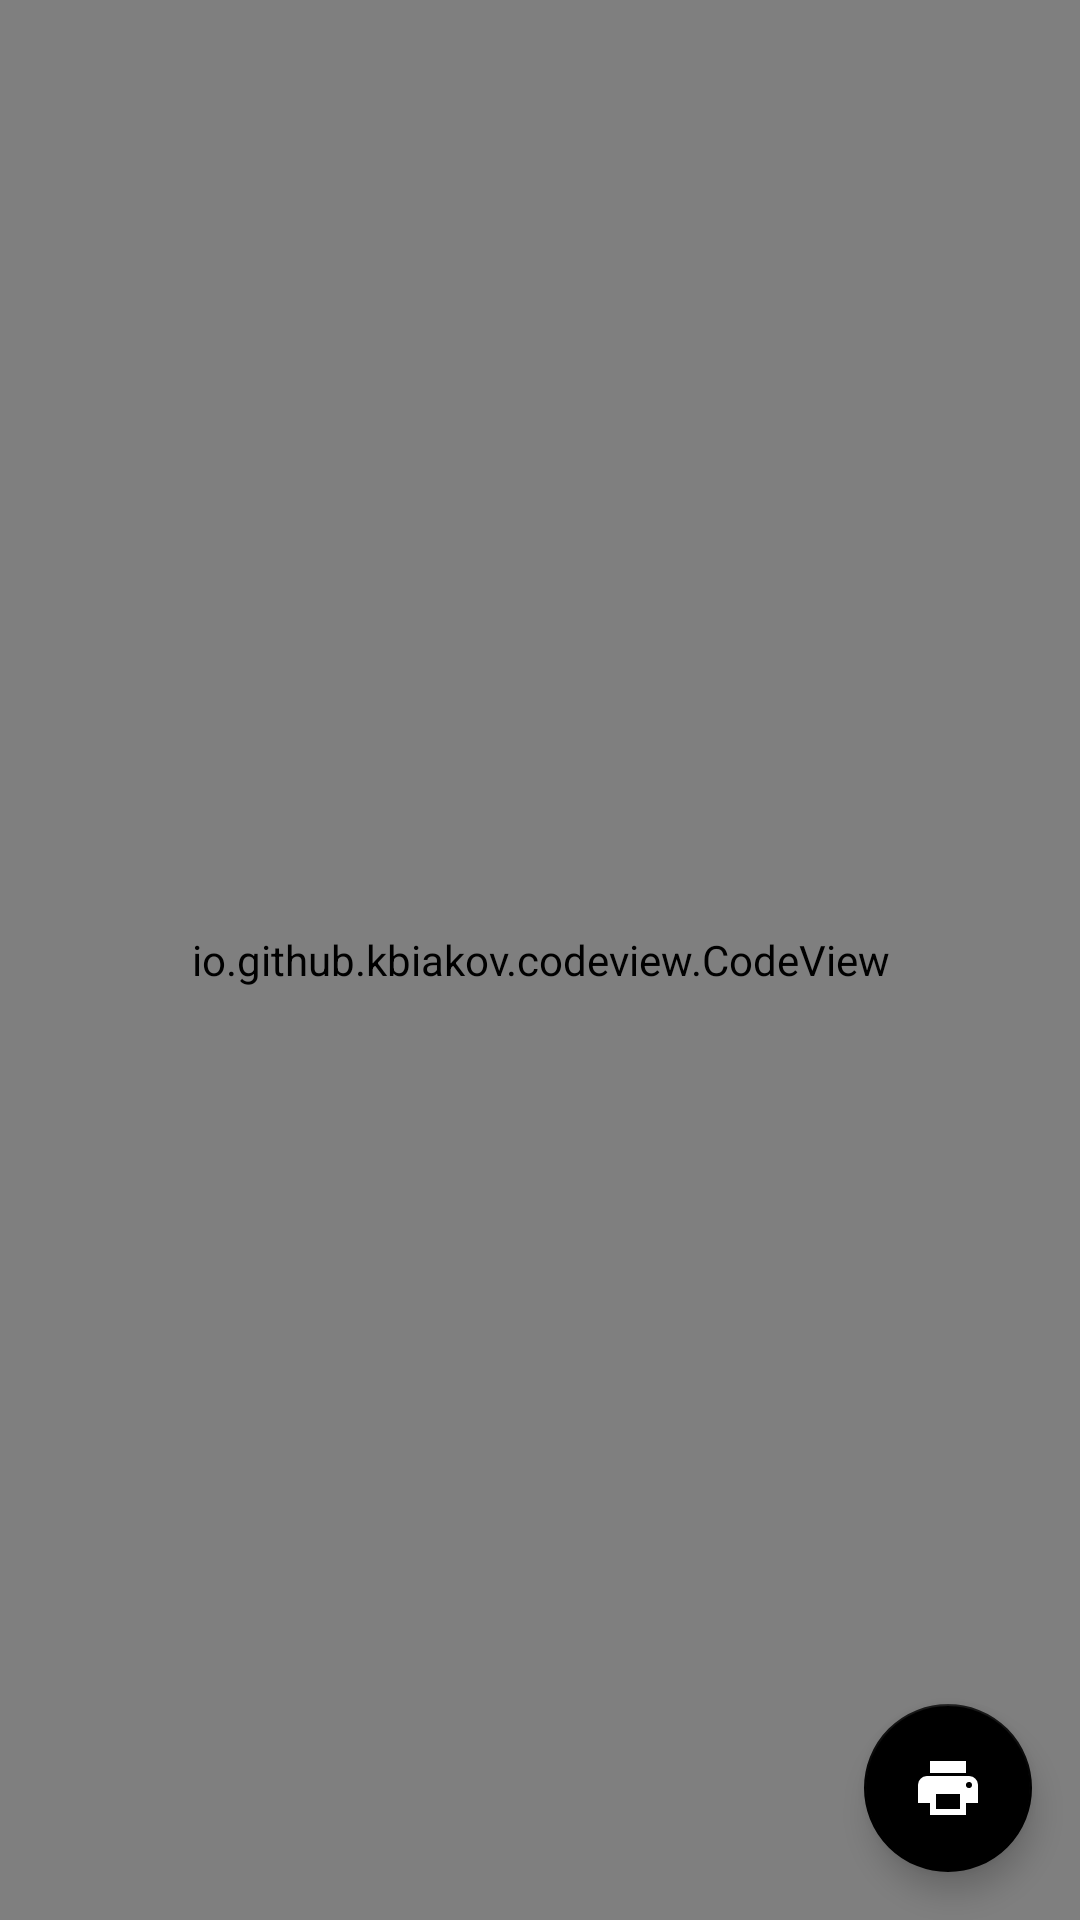

Where icons sit on this 1080w x 1920h app screen, as rect(x1, y1, x2, y2):
print: rect(864, 1704, 1032, 1872)
